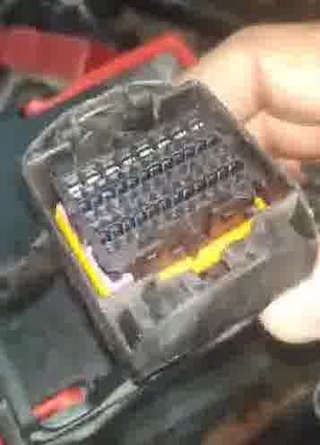connector: (20, 78, 320, 383)
